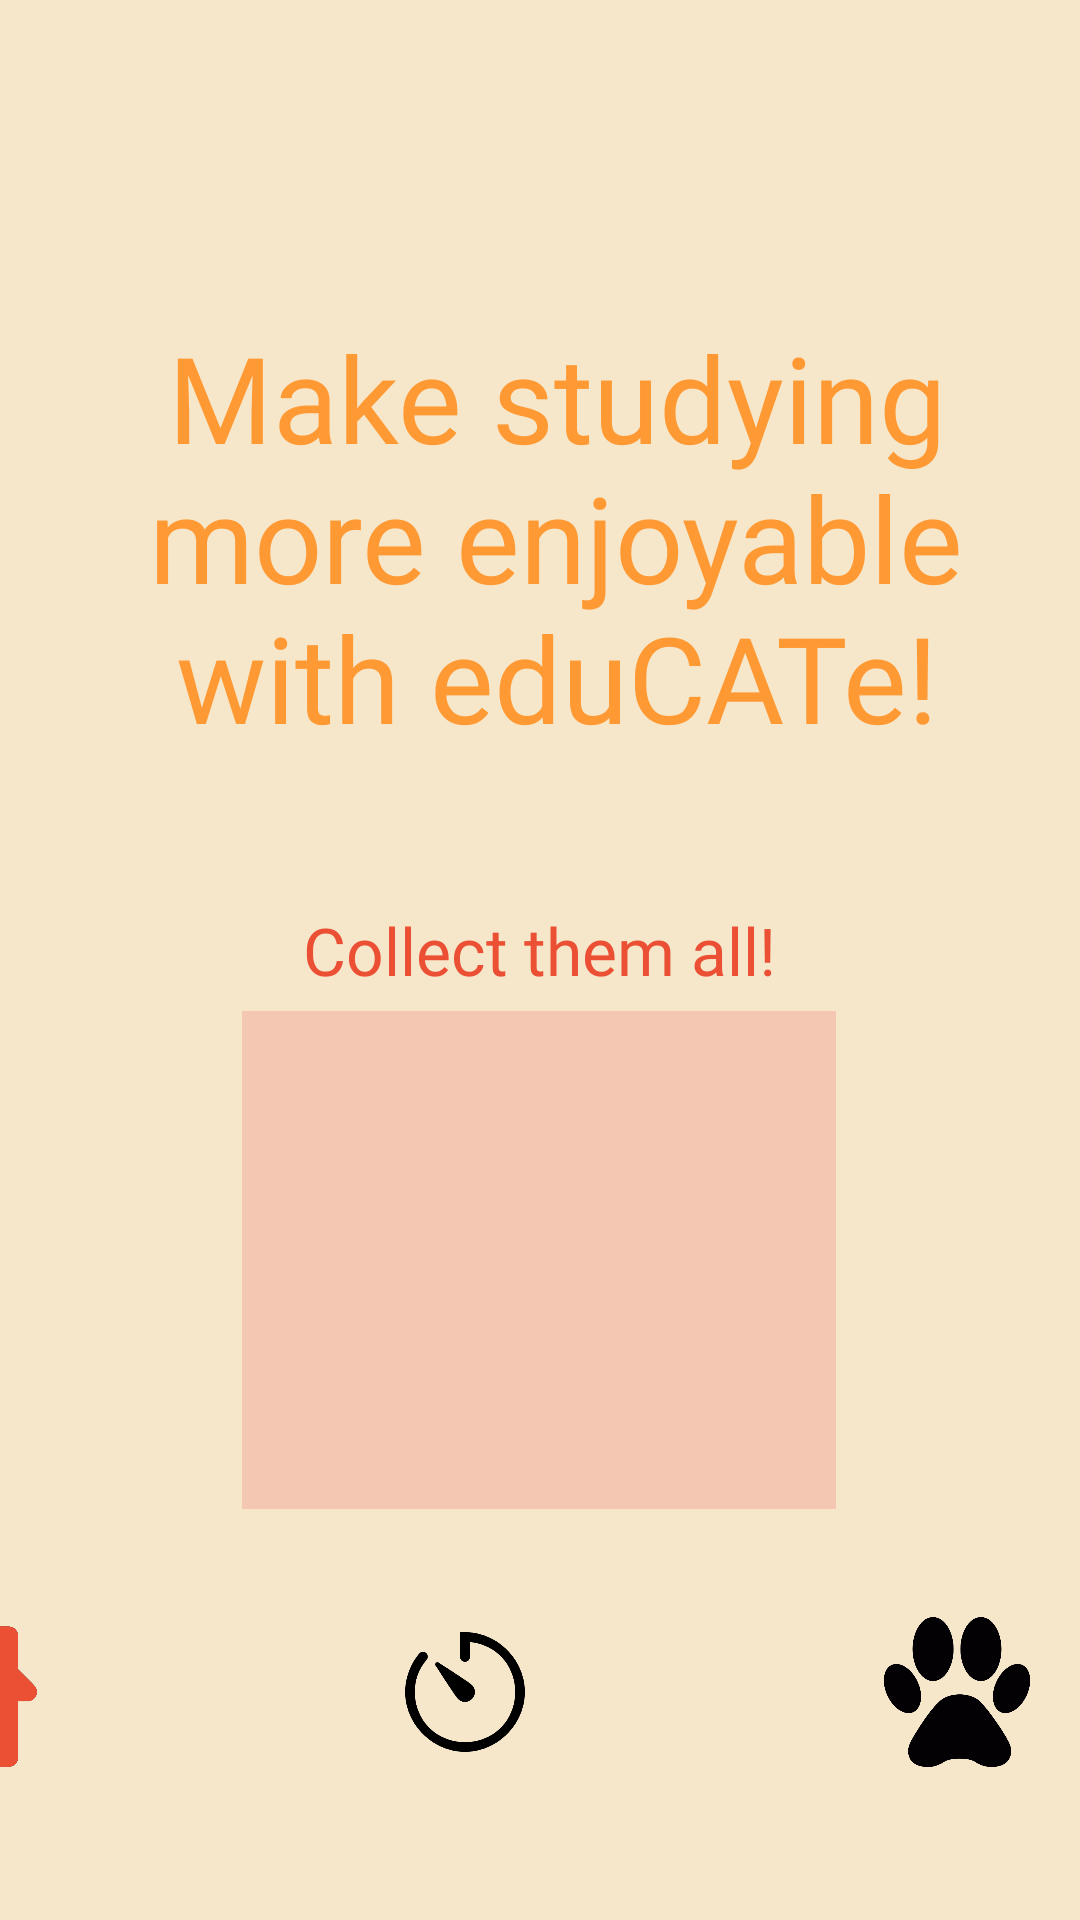

Screen size 1080×1920. Icon name, then its center in pixels as point (x, y):
pawcol: point (957, 1692)
timercol: point (465, 1692)
